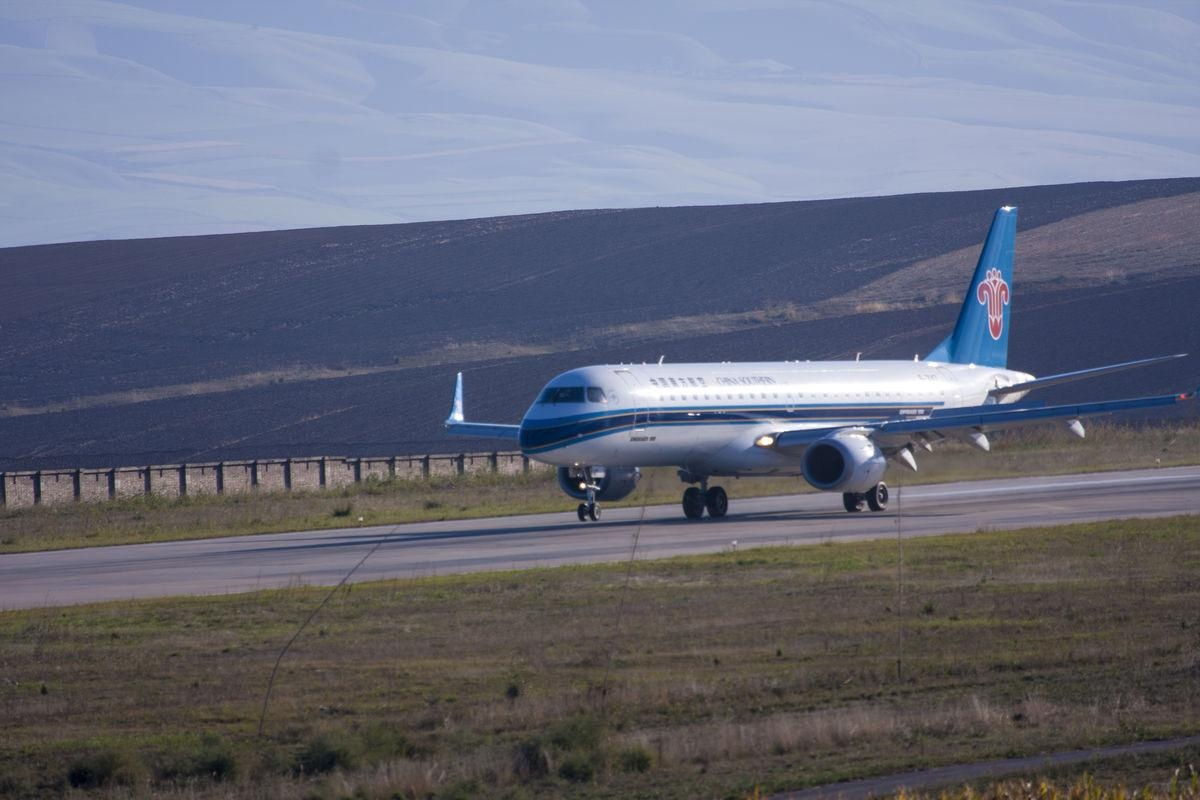airplane: (433, 203, 1194, 538)
